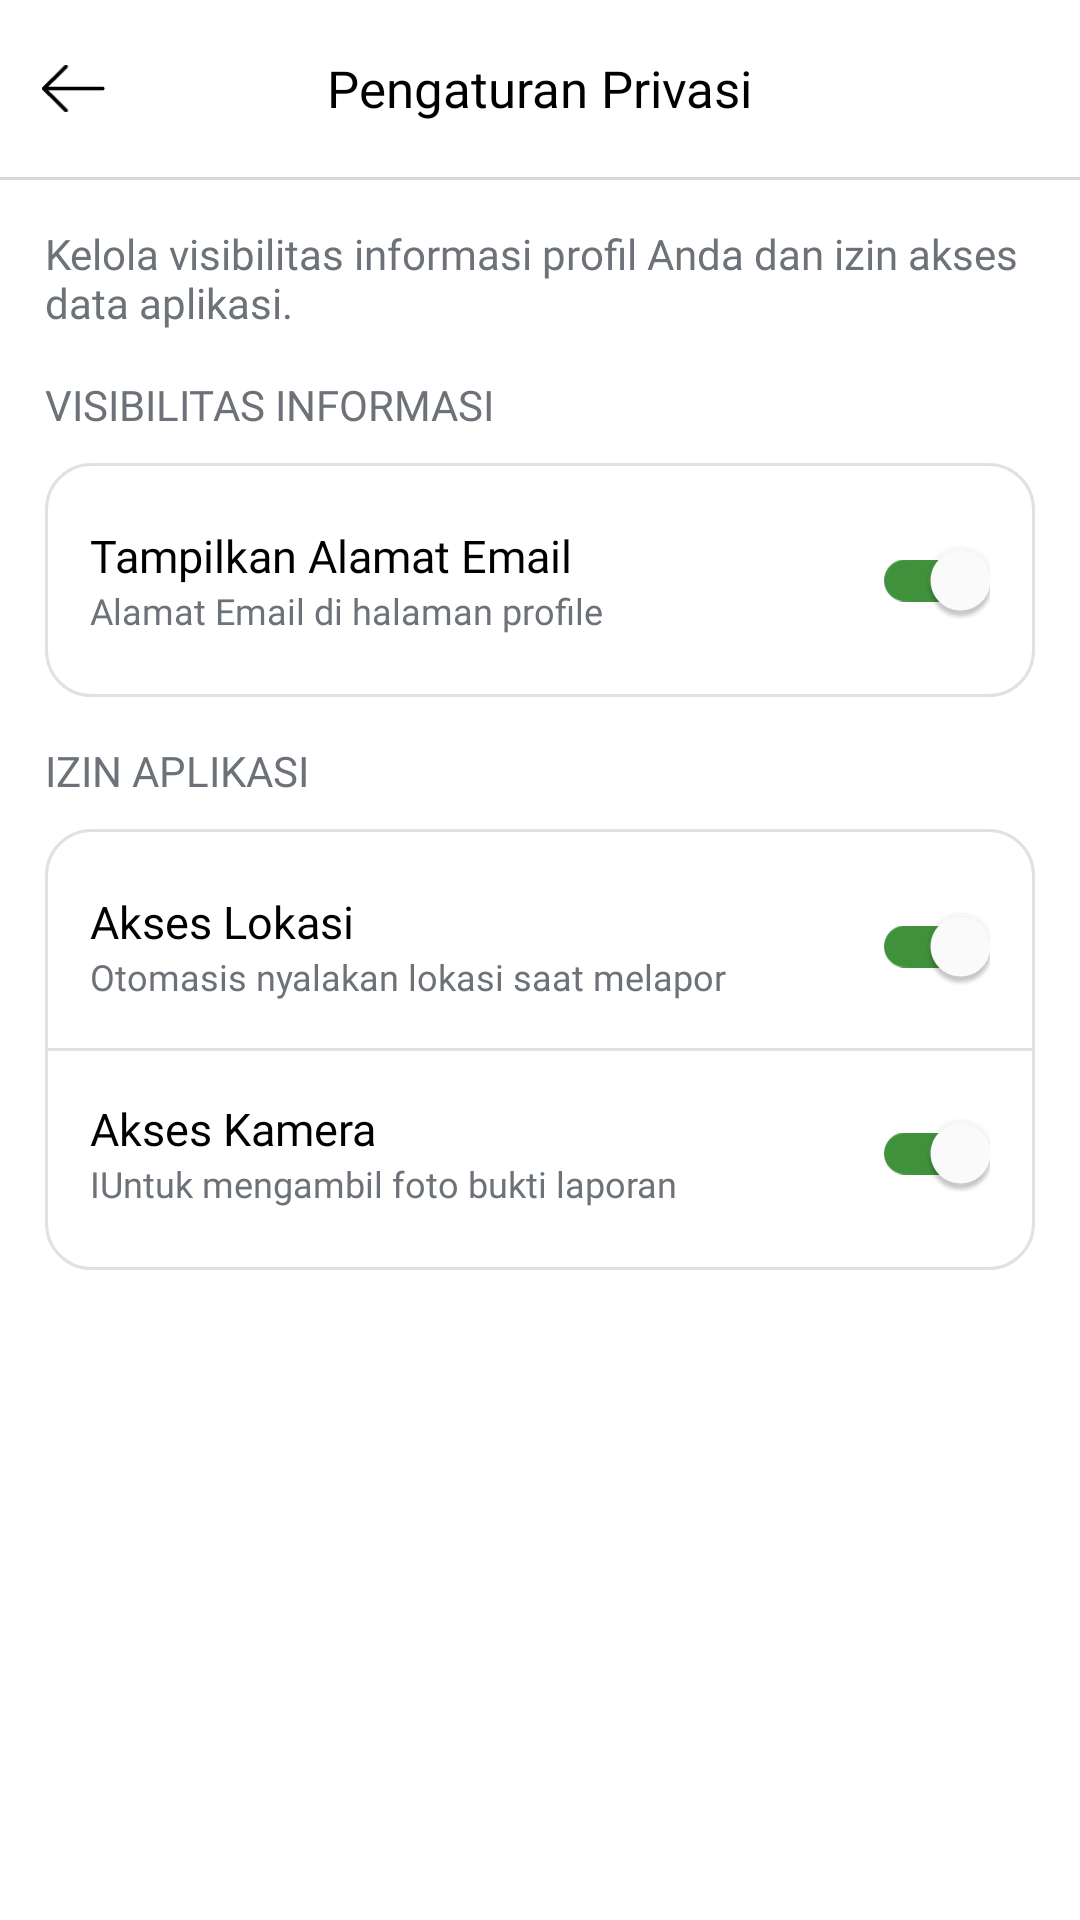

Icon bounding boxes for this 1080 x 1920 phone screenshot, format (x1, y1, x2, y2):
arrow left: (42, 65, 105, 112)
